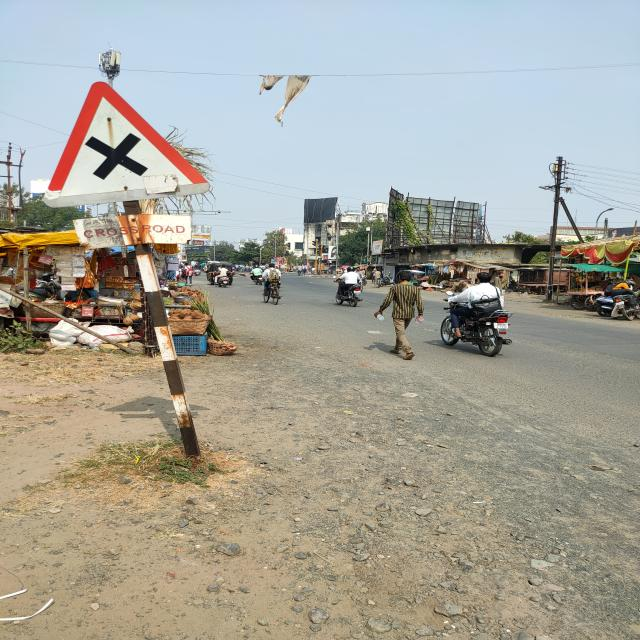cross_road: (41, 80, 223, 209)
